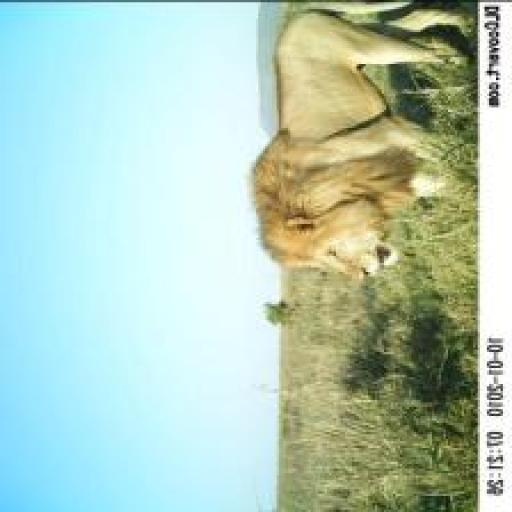lion: (229, 2, 480, 295)
